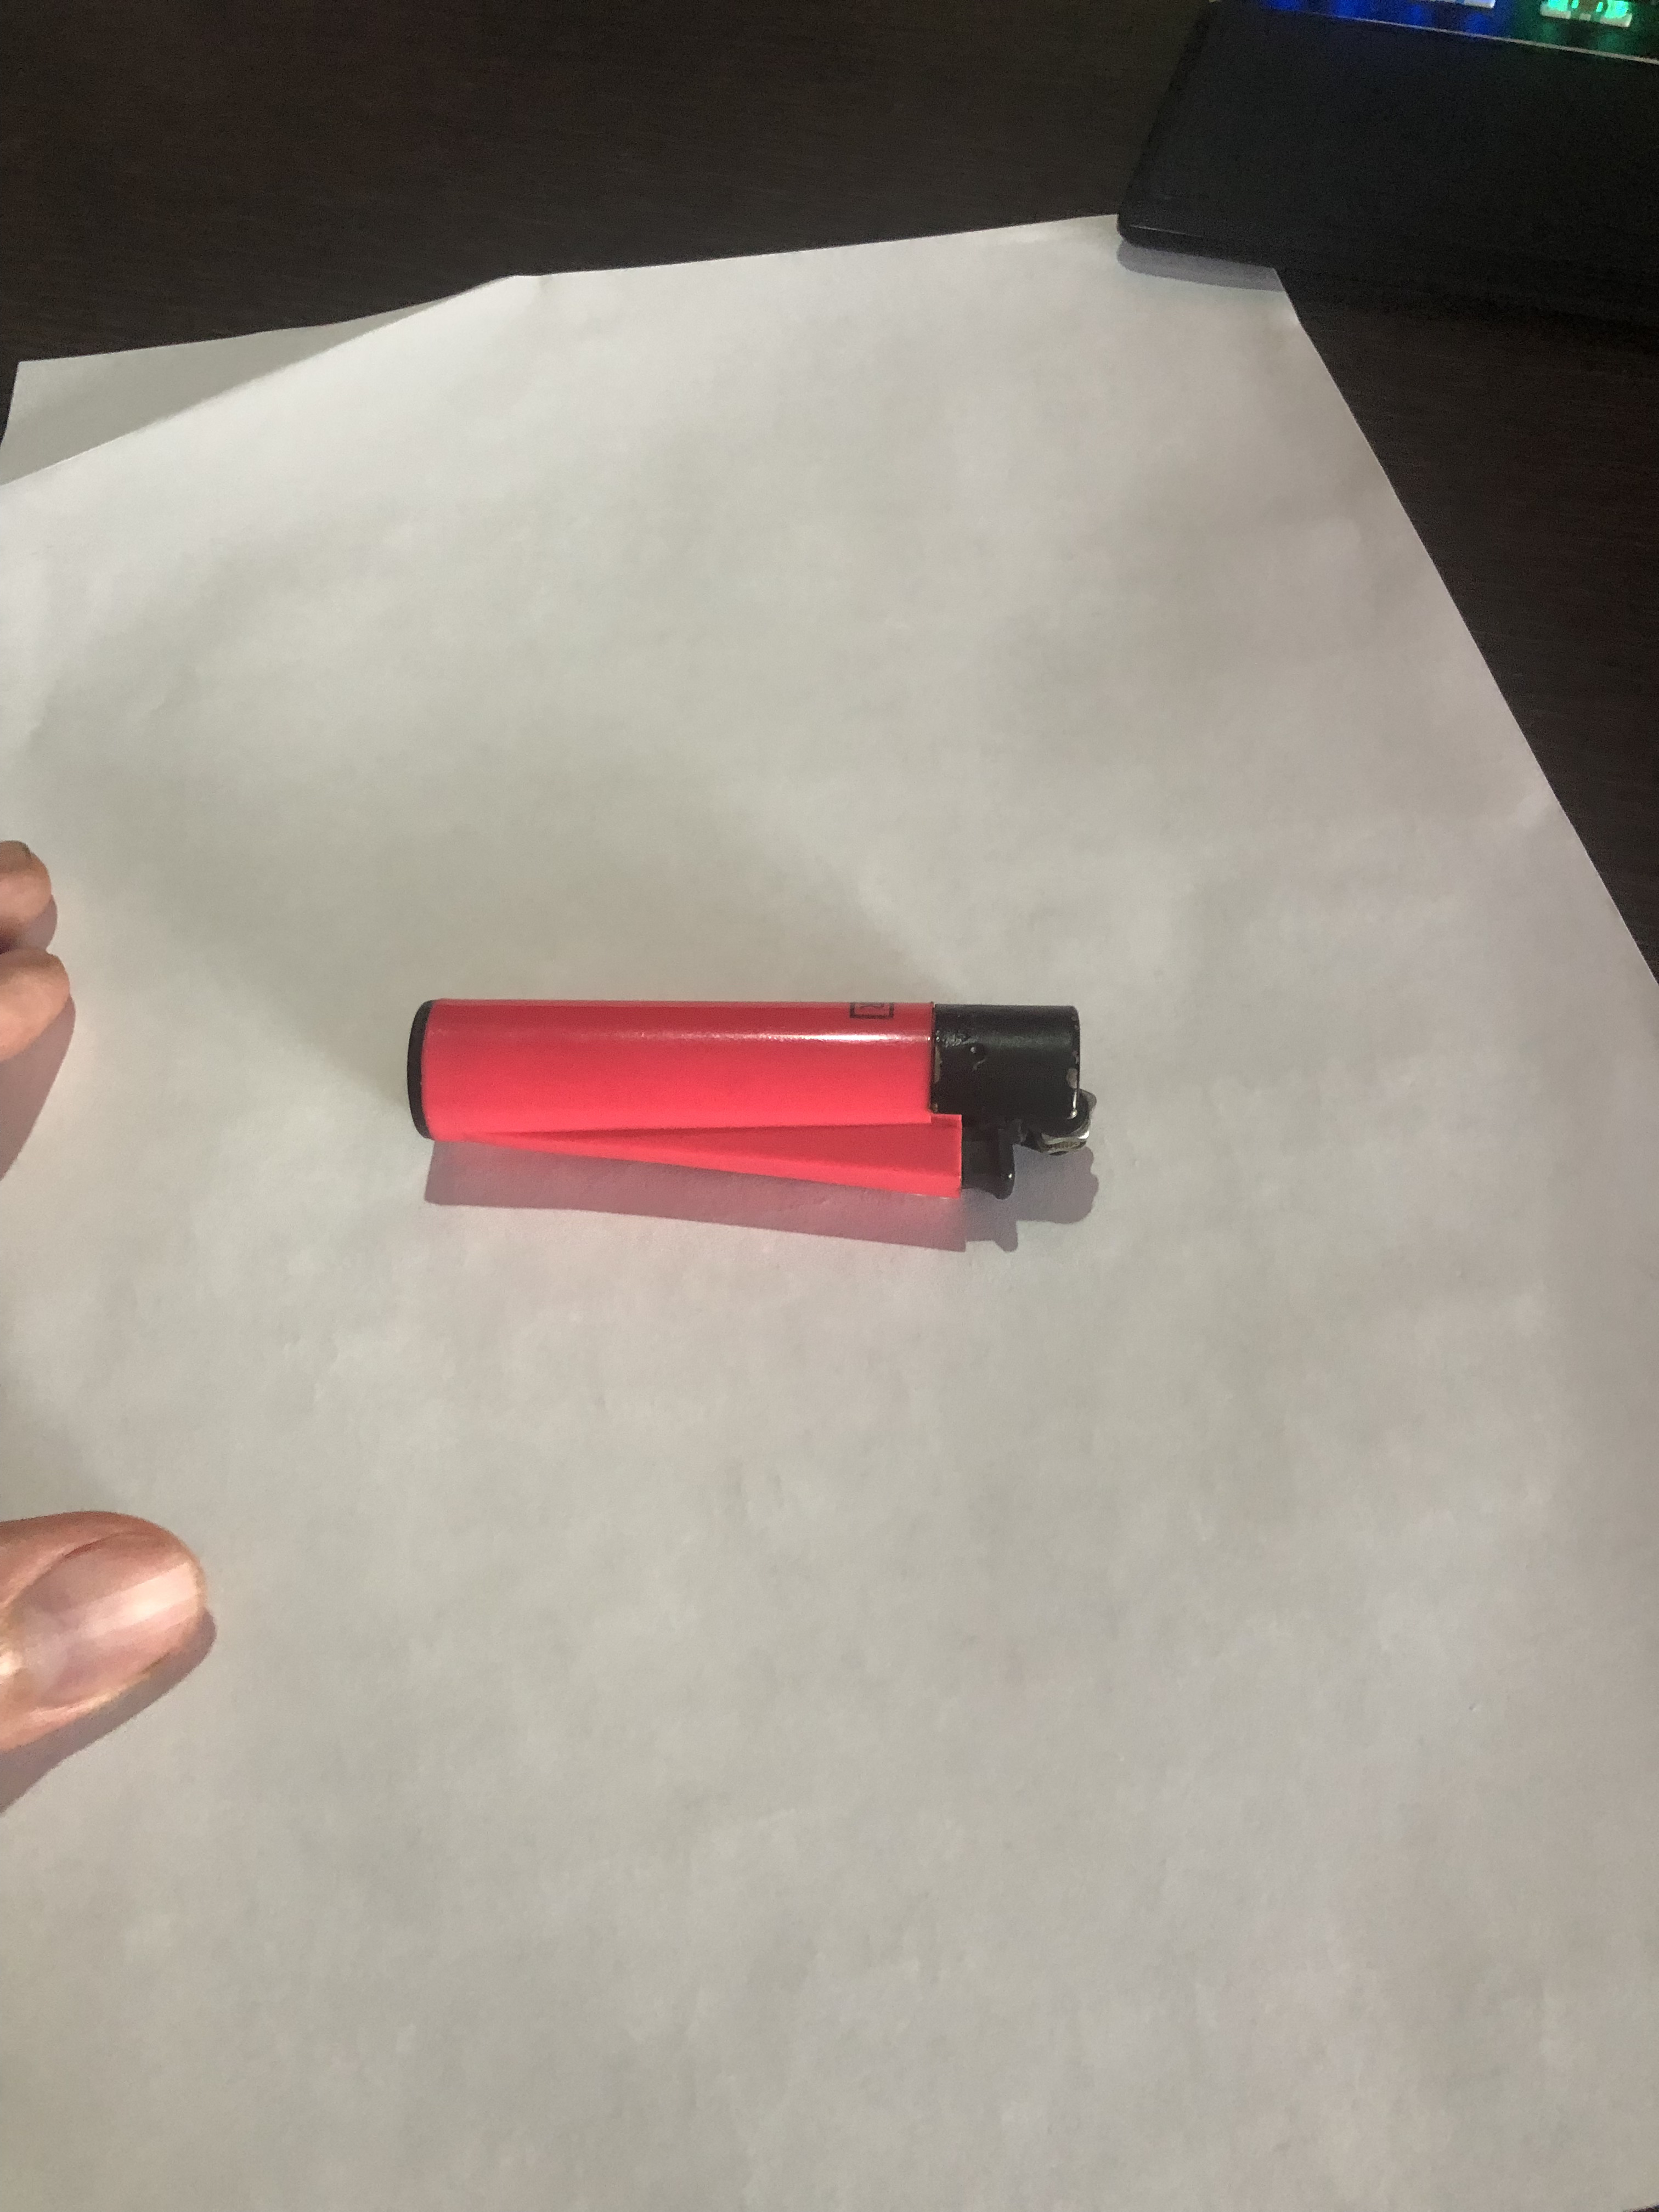Mechero: (394, 960, 1119, 1242)
